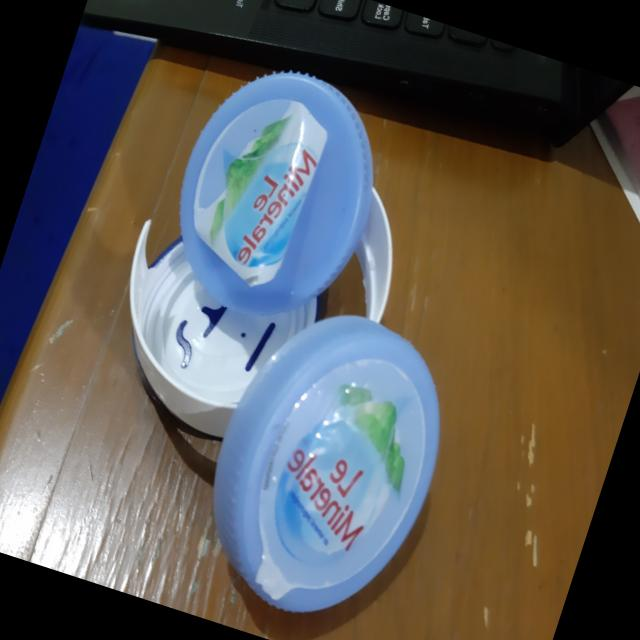TutupGalon: (14, 32, 589, 640)
